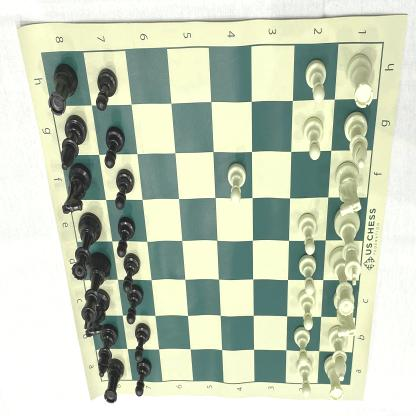black-bishop: (60, 114, 87, 172), (97, 323, 118, 380)
black-king: (81, 251, 111, 330)
black-knight: (63, 166, 92, 218), (84, 288, 110, 338)
black-pawn: (95, 66, 118, 112), (122, 252, 146, 294), (104, 125, 126, 170), (114, 168, 136, 210), (116, 216, 136, 258), (125, 283, 145, 325), (134, 321, 154, 362), (136, 358, 153, 400)
black-queen: (72, 213, 102, 283)
black-rook: (47, 61, 79, 117), (102, 357, 125, 405)
white-bishop: (343, 111, 372, 170), (327, 325, 351, 385)
white-king: (334, 206, 364, 287)
white-knight: (334, 162, 367, 218), (333, 288, 358, 339)
white-pawn: (302, 115, 327, 164), (304, 59, 329, 105), (296, 211, 320, 257), (226, 160, 248, 208), (298, 253, 320, 296), (297, 288, 318, 331), (292, 324, 312, 367), (295, 357, 315, 399)
white-queen: (328, 244, 357, 316)
white-rook: (344, 51, 376, 109), (323, 354, 347, 402)
